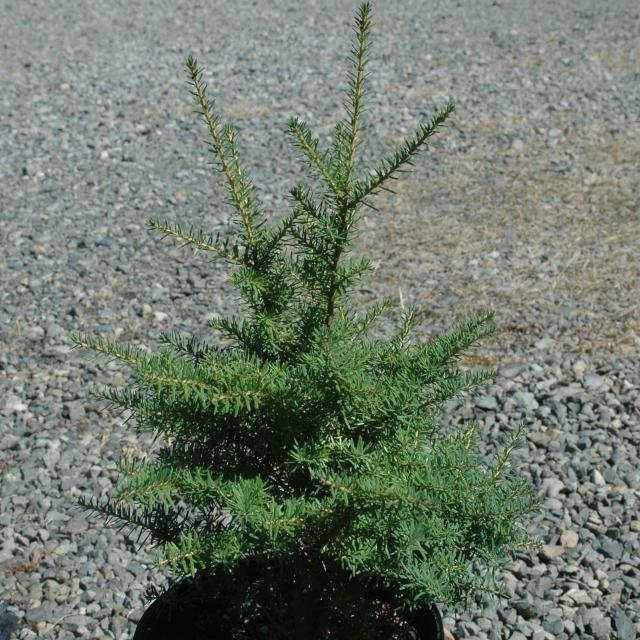Tsuga mertensiana: (71, 0, 535, 639)
